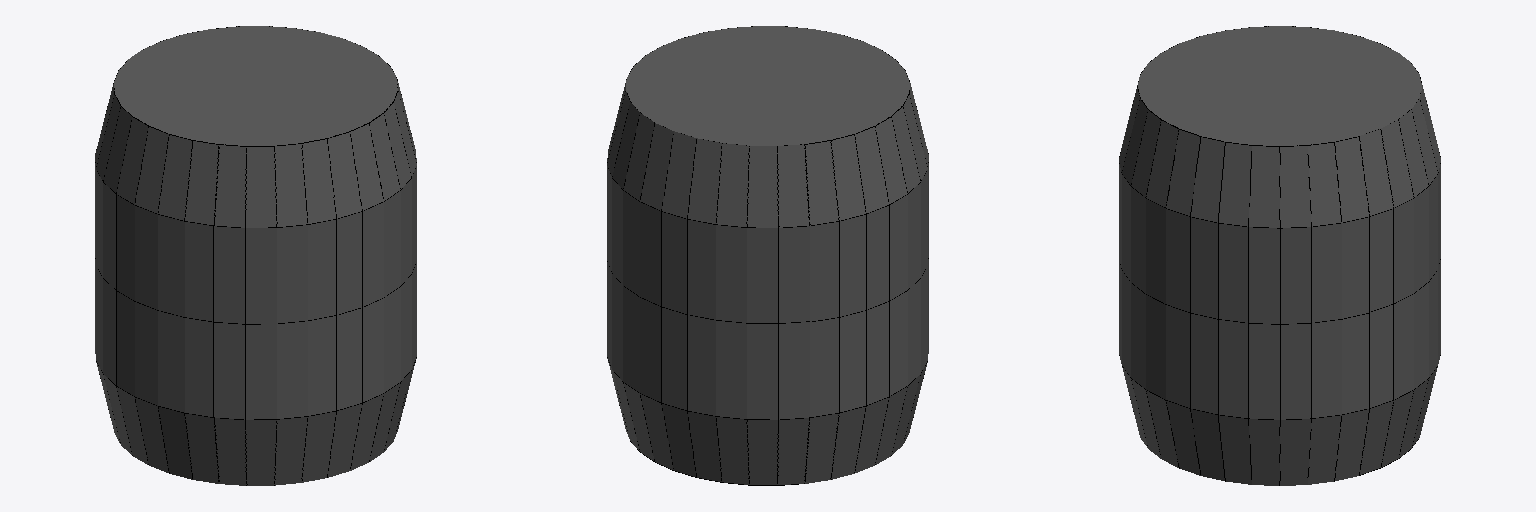
3 renders of one model, left to right at view 1: azimuth 30°, elevation 25°; view 2: azimuth 150°, elevation 25°; view 3: azimuth 270°, elevation 25°, orthographic.
Visible parts, largest first — view 1: barrow_Cylinder; view 2: barrow_Cylinder; view 3: barrow_Cylinder.
Boxes of the visible parts, x1,y1,x2,y2 form: barrow_Cylinder: [95, 26, 416, 485]; barrow_Cylinder: [607, 26, 928, 485]; barrow_Cylinder: [1119, 26, 1440, 485].
Size of the model in its own units: 1.13 by 1.31 by 1.13.
Materials: 1 (1 with a texture image).